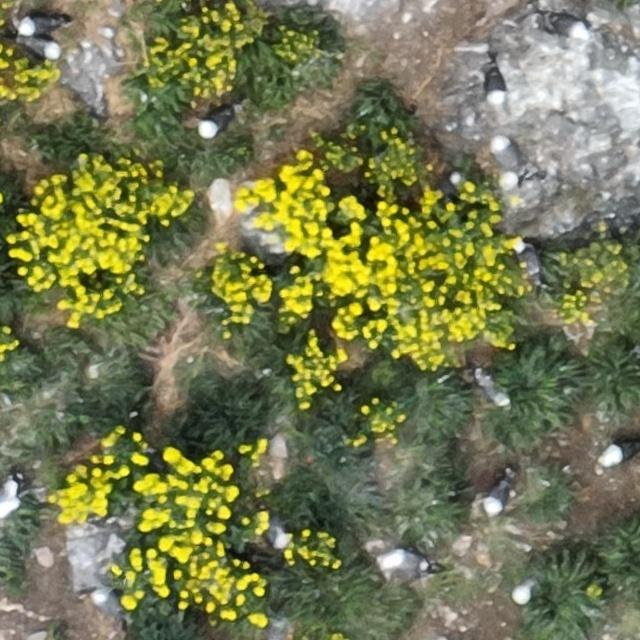umineko: (492, 135, 525, 177), (599, 440, 638, 466), (540, 14, 584, 37), (515, 243, 540, 283), (201, 109, 235, 137), (385, 552, 427, 574), (22, 38, 61, 58), (479, 376, 505, 404), (18, 16, 58, 34), (94, 592, 123, 616), (486, 483, 509, 513), (1, 482, 20, 518), (267, 521, 289, 549), (438, 172, 462, 195), (487, 70, 504, 102), (268, 619, 286, 640)
